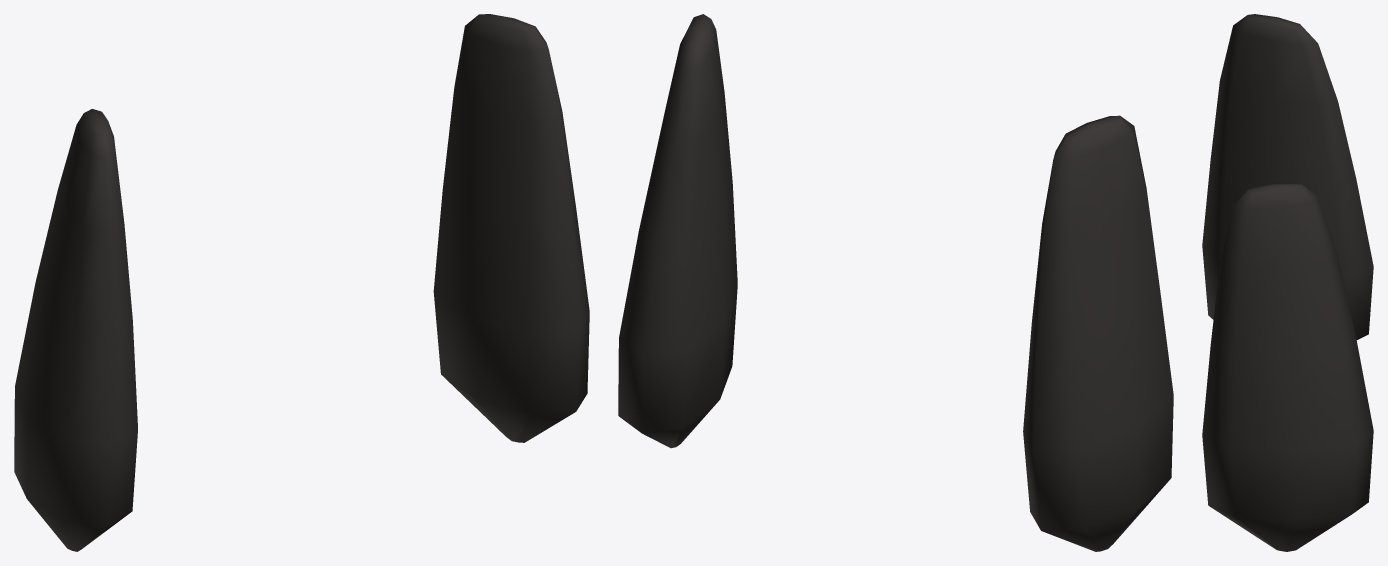
File: playerhair.fbx
3 renders of one model, left to right at view 1: azimuth 30°, elevation 25°; view 2: azimuth 150°, elevation 25°; view 3: azimuth 270°, elevation 25°, orthographic. The views are drawn at different scales.
Visible parts, largest first — view 1: hairdangles; view 2: hairdangles; view 3: hairdangles.
Boxes of the visible parts, bbox=[...] form: hairdangles: bbox=[14, 14, 589, 551]; hairdangles: bbox=[618, 14, 1173, 551]; hairdangles: bbox=[1202, 14, 1373, 551].
Bounding box in the file's own units: 34.7 × 27.26 × 11.77.
